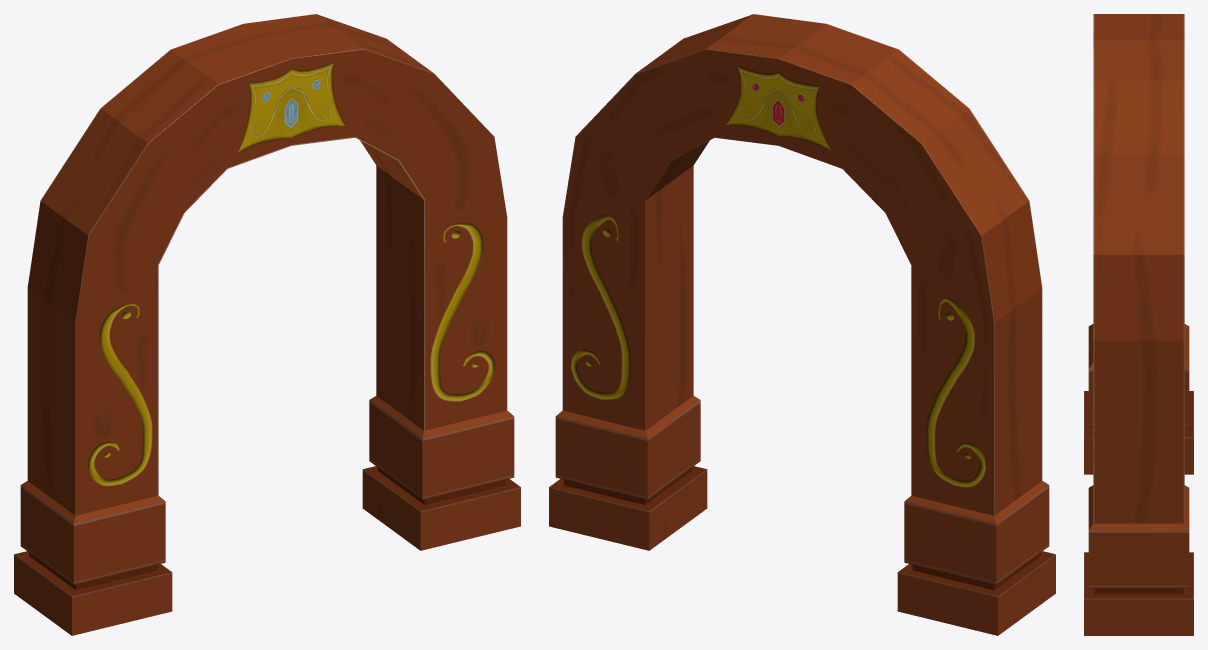
File: ArcoPorta.fbx
3 views of the same model, side by side, from view 1: azimuth 30°, elevation 25°; view 2: azimuth 150°, elevation 25°; view 3: azimuth 270°, elevation 25° (orthographic). The views are drawn at different scales.
Parts seen in each view (by area): view 1: ArcoPorta; view 2: ArcoPorta; view 3: ArcoPorta.
Part boxes in pixels (x1=…): ArcoPorta: x1=14, y1=14, x2=520, y2=635; ArcoPorta: x1=549, y1=14, x2=1055, y2=635; ArcoPorta: x1=1084, y1=14, x2=1193, y2=635.
Bounding box in the file's own units: 670 × 740 × 150.
